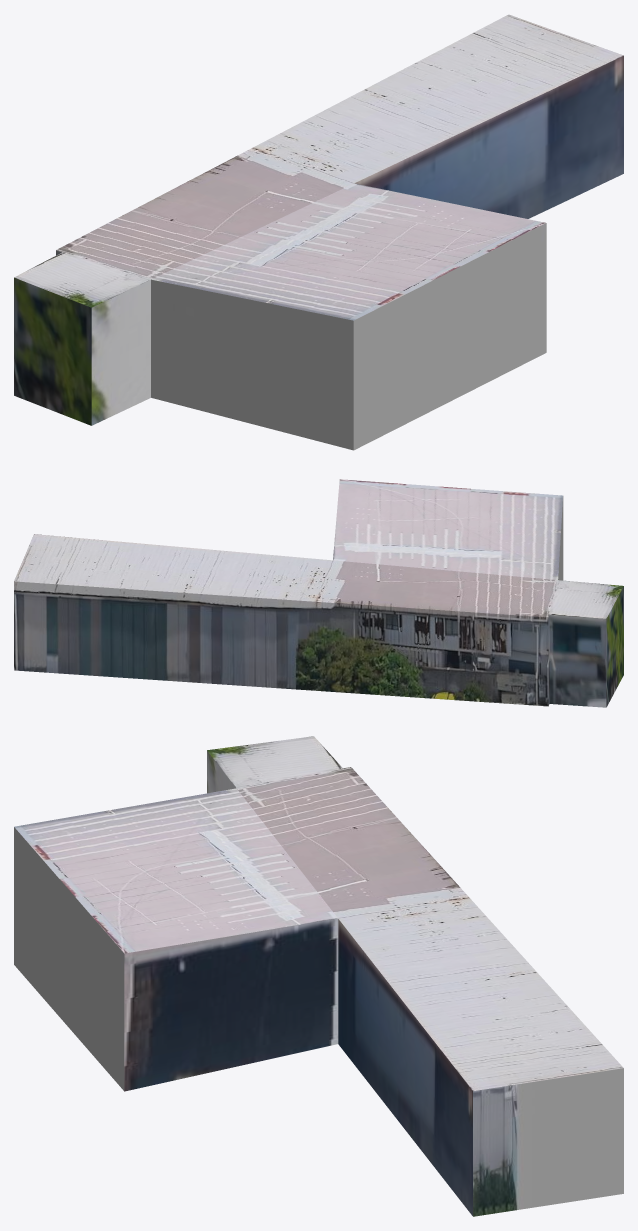
The picture shows the model from 3 angles, top to bottom: view 1: azimuth 30°, elevation 25°; view 2: azimuth 150°, elevation 25°; view 3: azimuth 270°, elevation 25°; orthographic projection. The views are drawn at different scales.
Parts seen in each view (by area): view 1: B293084044901062A0; view 2: B293084044901062A0; view 3: B293084044901062A0.
Part boxes in pixels (x1,y1,x2,y2): B293084044901062A0: (14, 14, 623, 450); B293084044901062A0: (14, 479, 623, 707); B293084044901062A0: (14, 736, 623, 1216).
Size of the model in its own units: 40.09 by 7.26 by 29.11.
Materials: 1 (1 with a texture image).
